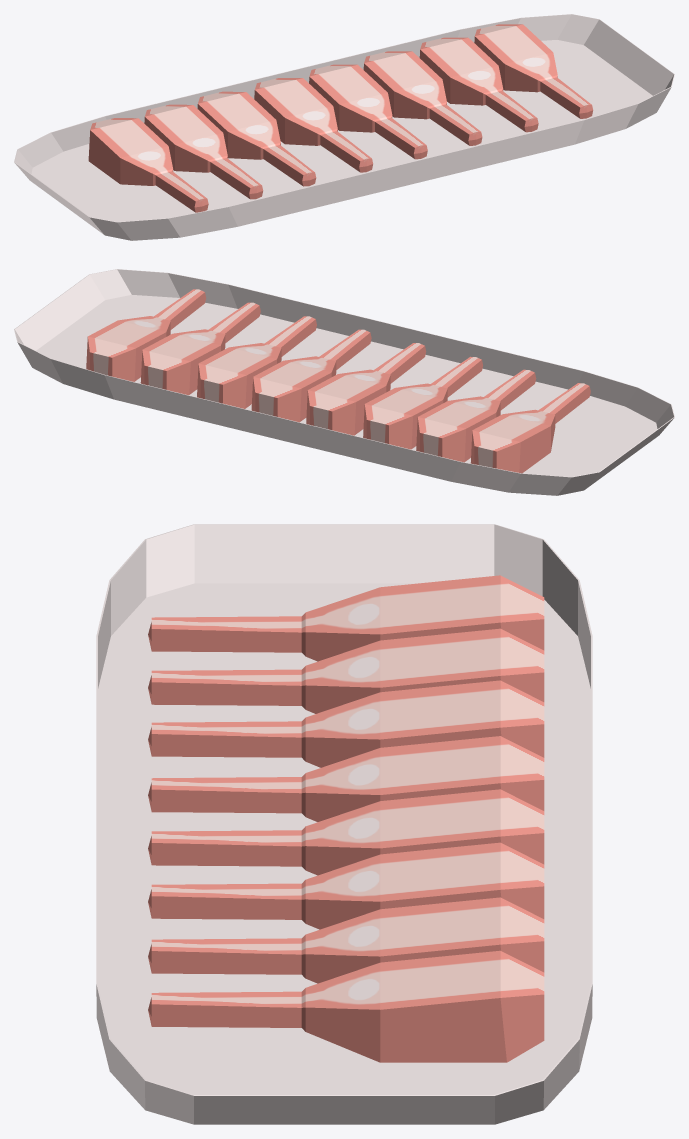
The model's file is Collectible Item.fbx_Chicken_Leg.fbx.
3 views of the same model, one above another, from view 1: azimuth 30°, elevation 25°; view 2: azimuth 150°, elevation 25°; view 3: azimuth 270°, elevation 25° (orthographic). The views are drawn at different scales.
Parts seen in each view (by area): view 1: Chicken Leg Tray; view 2: Chicken Leg Tray; view 3: Chicken Leg Tray.
Boxes of the visible parts, box(x1,y1,x2,y2) form: Chicken Leg Tray: box(14, 14, 674, 240); Chicken Leg Tray: box(14, 269, 674, 495); Chicken Leg Tray: box(96, 524, 592, 1124).
Bounding box in the file's own units: 5.49 × 0.3078 × 2.01.
Materials: 2 (2 with a texture image).
